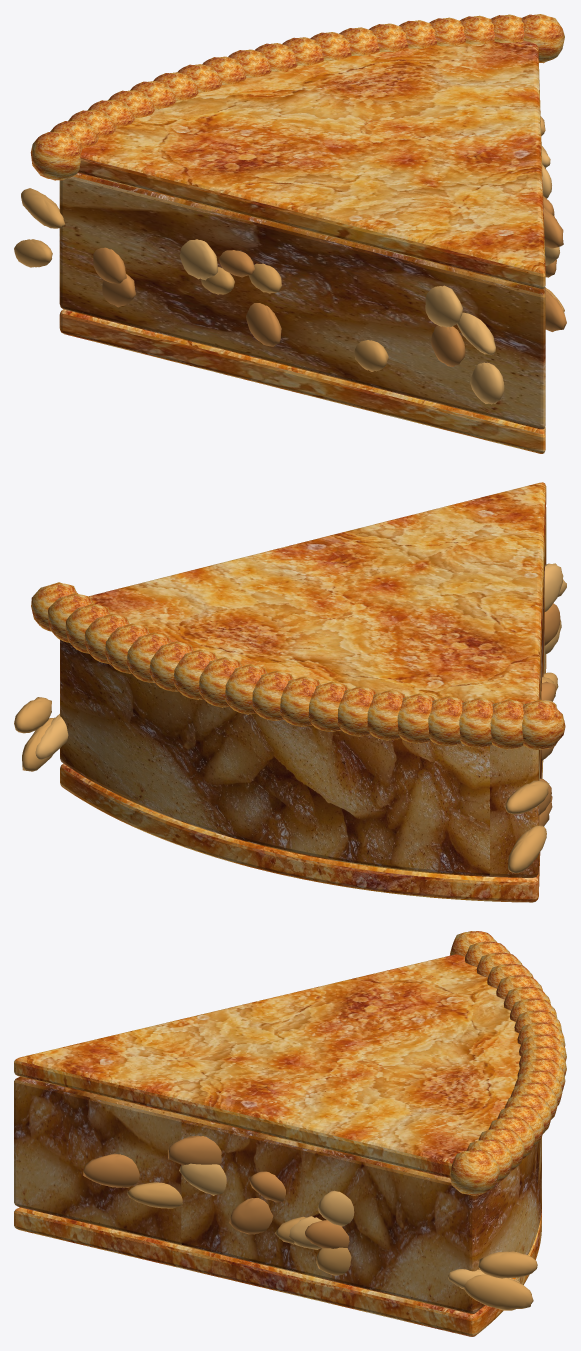
Rendered from sweet-apple-pie.glb.
3 renders of one model, top to bottom at view 1: azimuth 30°, elevation 25°; view 2: azimuth 150°, elevation 25°; view 3: azimuth 270°, elevation 25°, orthographic. The views are drawn at different scales.
Visible parts, largest first — view 1: Flaky top crust, Packed cinnamon apple filling, Lower flaky pie crust, Hand crimped pastry edge, Hand crimped pastry edge.019, Soft overlapping apple slice.002, Soft overlapping apple slice.008, Soft overlapping apple slice.012, Soft overlapping apple slice.011, Soft overlapping apple slice.003, Soft overlapping apple slice.001, Soft overlapping apple slice.005 (+27 smaller); view 2: Packed cinnamon apple filling, Flaky top crust, Lower flaky pie crust, Hand crimped pastry edge, Hand crimped pastry edge.001, Hand crimped pastry edge.003, Hand crimped pastry edge.002, Hand crimped pastry edge.004, Hand crimped pastry edge.005, Hand crimped pastry edge.006, Hand crimped pastry edge.007, Hand crimped pastry edge.008 (+17 smaller); view 3: Flaky top crust, Packed cinnamon apple filling, Lower flaky pie crust, Hand crimped pastry edge.019, Soft overlapping apple slice.024, Soft overlapping apple slice.014, Soft overlapping apple slice.020, Soft overlapping apple slice.015, Soft overlapping apple slice.026, Soft overlapping apple slice.022, Soft overlapping apple slice.018, Soft overlapping apple slice.023 (+23 smaller).
Part boxes in pixels (<box>): Flaky top crust: <box>77,40,545,289</box>; Packed cinnamon apple filling: <box>59,173,545,429</box>; Lower flaky pie crust: <box>59,309,545,453</box>; Hand crimped pastry edge: <box>30,131,82,180</box>; Hand crimped pastry edge.019: <box>522,14,564,63</box>; Soft overlapping apple slice.002: <box>425,285,462,327</box>; Soft overlapping apple slice.008: <box>179,239,217,280</box>; Soft overlapping apple slice.012: <box>246,303,281,346</box>; Soft overlapping apple slice.011: <box>470,362,504,404</box>; Soft overlapping apple slice.003: <box>431,325,465,366</box>; Soft overlapping apple slice.001: <box>21,188,64,228</box>; Soft overlapping apple slice.005: <box>456,312,495,355</box>; Packed cinnamon apple filling: <box>60,507,546,877</box>; Flaky top crust: <box>89,482,546,703</box>; Lower flaky pie crust: <box>60,654,546,902</box>; Hand crimped pastry edge: <box>522,699,565,749</box>; Hand crimped pastry edge.001: <box>490,699,524,749</box>; Hand crimped pastry edge.003: <box>428,696,464,746</box>; Hand crimped pastry edge.002: <box>459,698,494,748</box>; Hand crimped pastry edge.004: <box>397,693,434,743</box>; Hand crimped pastry edge.005: <box>367,690,405,740</box>; Hand crimped pastry edge.006: <box>337,686,376,736</box>; Hand crimped pastry edge.007: <box>308,681,348,731</box>; Hand crimped pastry edge.008: <box>280,676,320,726</box>; Flaky top crust: <box>14,954,520,1178</box>; Packed cinnamon apple filling: <box>14,1077,541,1313</box>; Lower flaky pie crust: <box>14,1207,541,1336</box>; Hand crimped pastry edge.019: <box>450,1150,499,1195</box>; Soft overlapping apple slice.024: <box>463,1274,533,1310</box>; Soft overlapping apple slice.014: <box>83,1153,139,1187</box>; Soft overlapping apple slice.020: <box>168,1135,221,1165</box>; Soft overlapping apple slice.015: <box>478,1251,537,1278</box>; Soft overlapping apple slice.026: <box>229,1198,273,1234</box>; Soft overlapping apple slice.022: <box>179,1163,226,1195</box>; Soft overlapping apple slice.018: <box>127,1182,182,1208</box>; Soft overlapping apple slice.023: <box>305,1220,349,1248</box>.
Size of the model in its own units: 2.25 by 0.821 by 2.19.
Materials: 5 (2 with a texture image).
